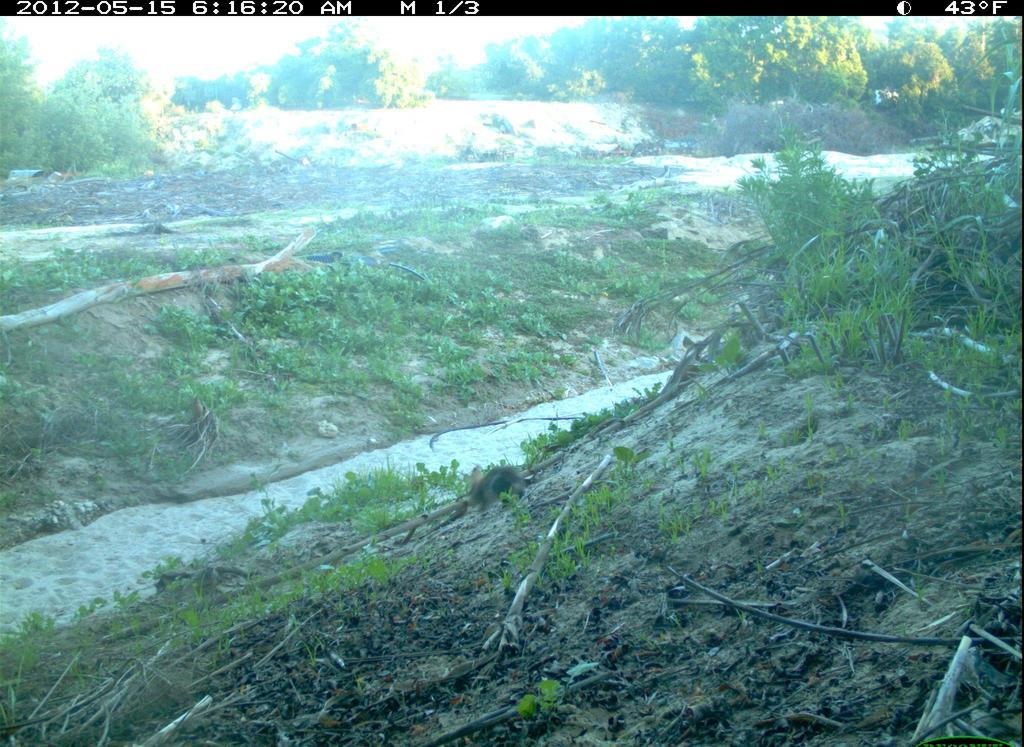rabbit: (455, 456, 534, 523)
